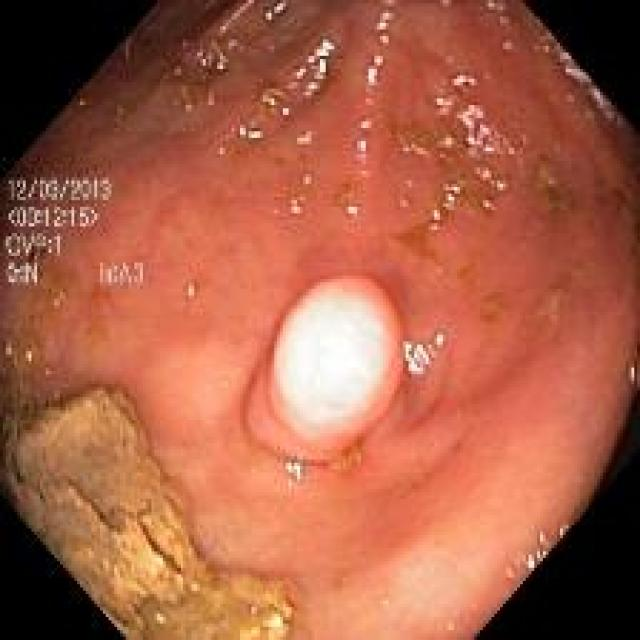Polyps: (269, 277, 405, 462)
